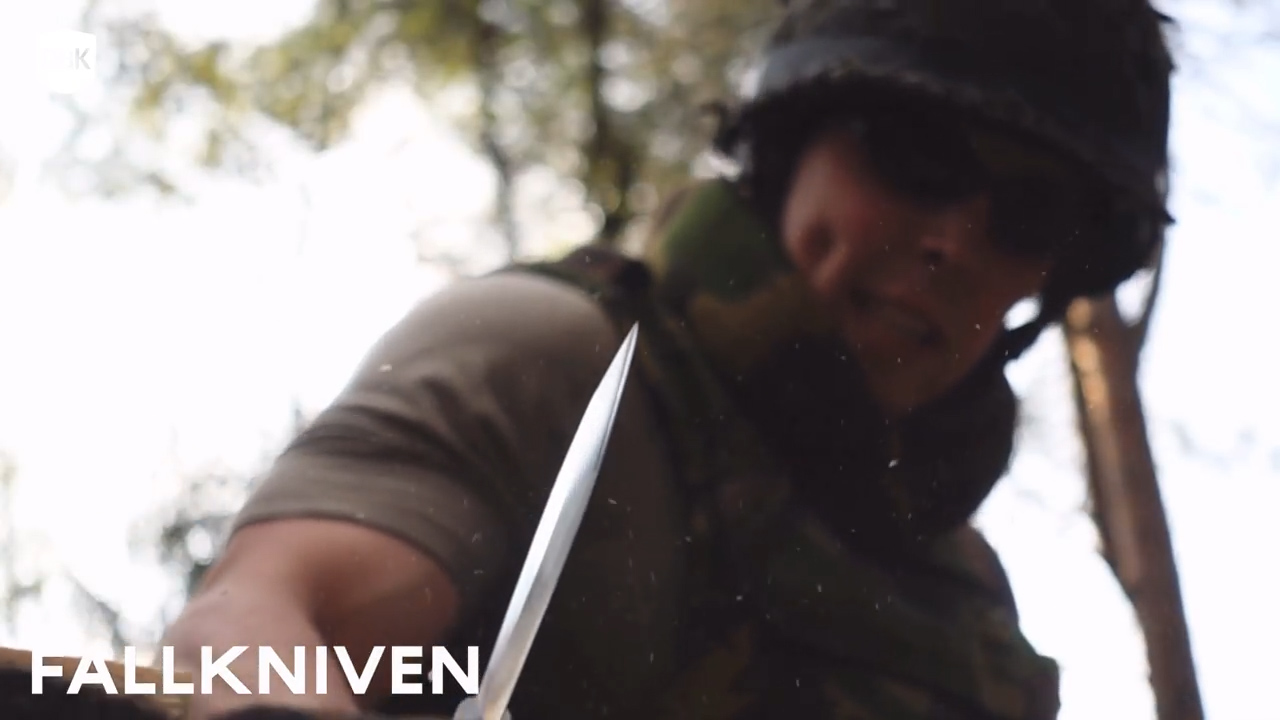knife: (444, 305, 656, 720)
